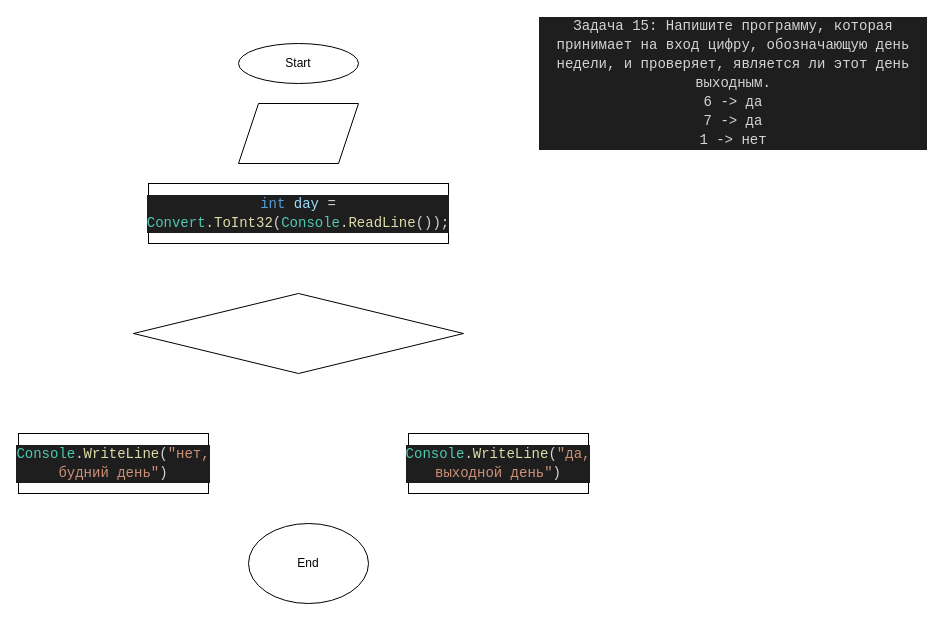
Some shapes in this 946 by 621 pixel diagram are drawn without their labels. Each missing label, with the centre of its shape:
"if ( day % 7 > 0 & day % 7 <= 5 )" goes at [298,333].
"Int day" goes at [298,133].
